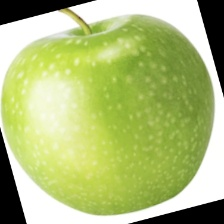apple: (34, 0, 171, 201)
